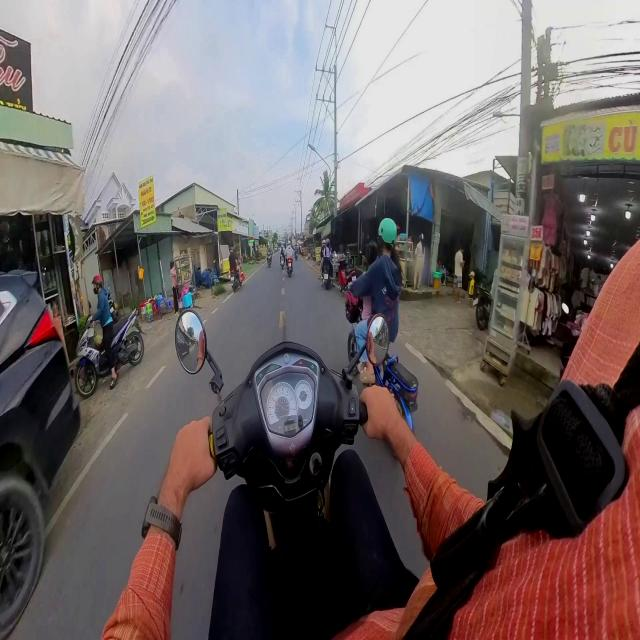car: (0, 272, 80, 638)
motorcycle: (176, 310, 367, 637), (75, 326, 110, 398), (346, 291, 365, 371), (473, 287, 491, 330), (338, 258, 356, 292), (322, 259, 333, 290), (230, 270, 242, 292), (287, 258, 292, 276), (280, 255, 284, 269), (267, 254, 271, 267)
